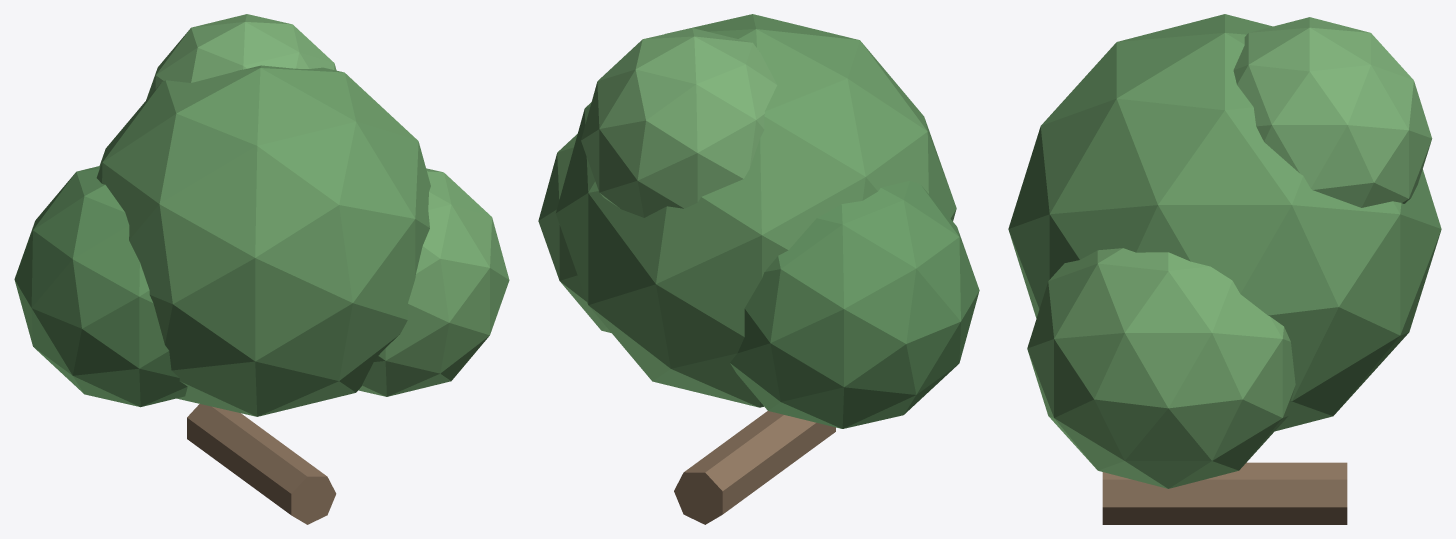
The model's file is tree_oak.glb.
The picture shows the model from 3 angles, left to right: view 1: azimuth 30°, elevation 25°; view 2: azimuth 150°, elevation 25°; view 3: azimuth 270°, elevation 25°; orthographic projection. The views are drawn at different scales.
Visible parts, largest first — view 1: tree_oak; view 2: tree_oak; view 3: tree_oak.
Part boxes in pixels (x1,y1,x2,y2): tree_oak: (14, 14, 509, 524); tree_oak: (538, 14, 979, 524); tree_oak: (1008, 14, 1441, 524).
Size of the model in its own units: 6 by 5.93 by 4.6.
